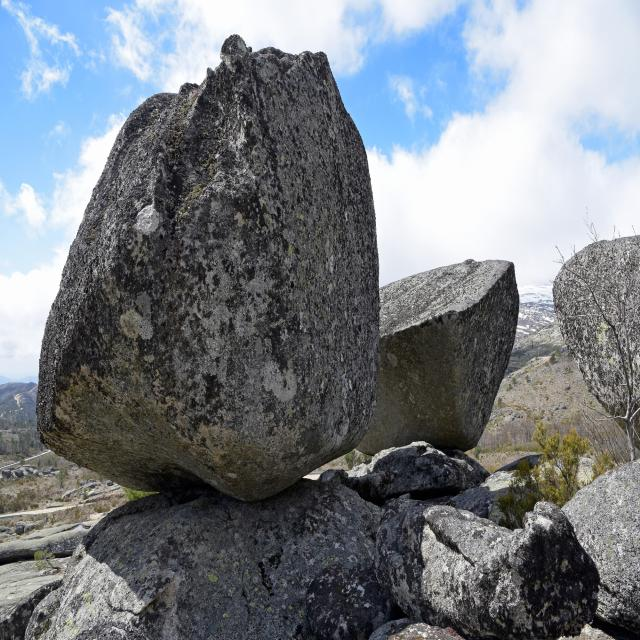Igneous: (18, 31, 379, 502), (380, 250, 527, 480), (551, 226, 640, 447)
